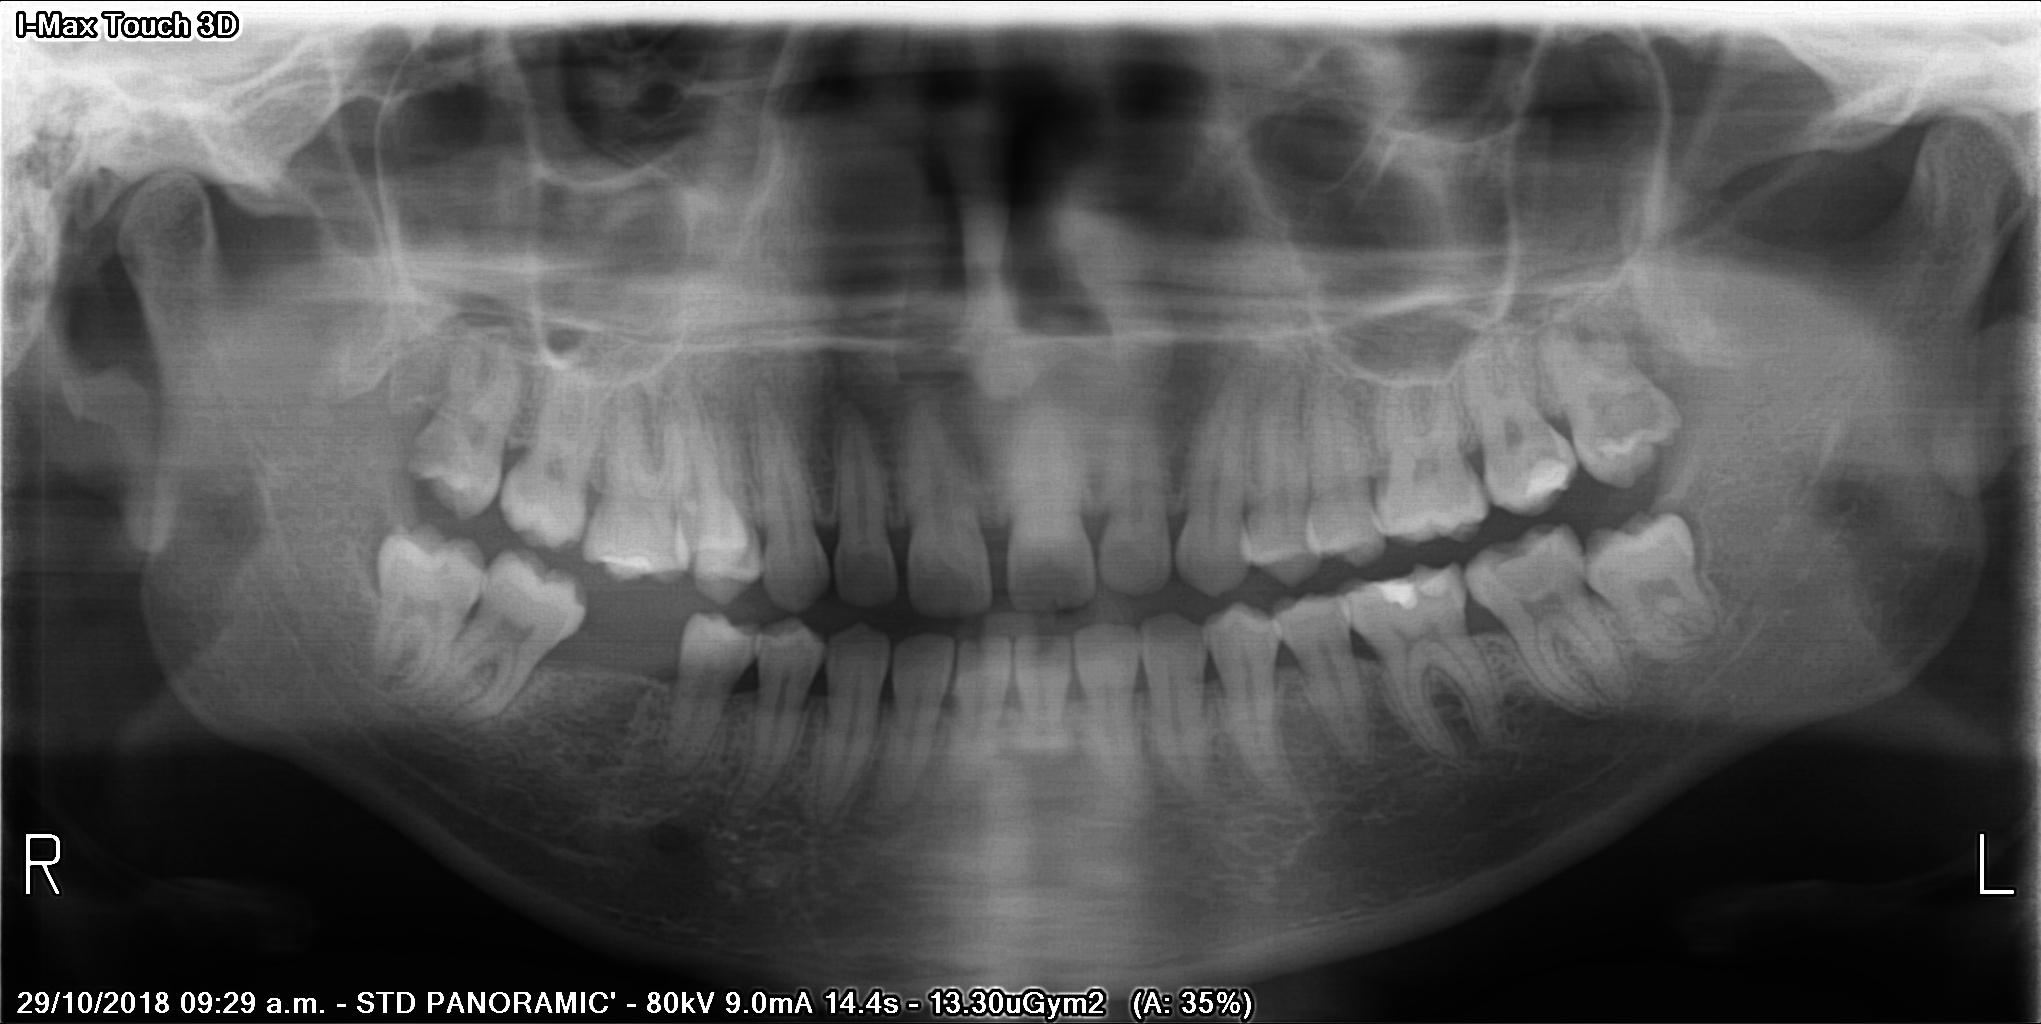Çürük: (1376, 575, 1457, 616)
